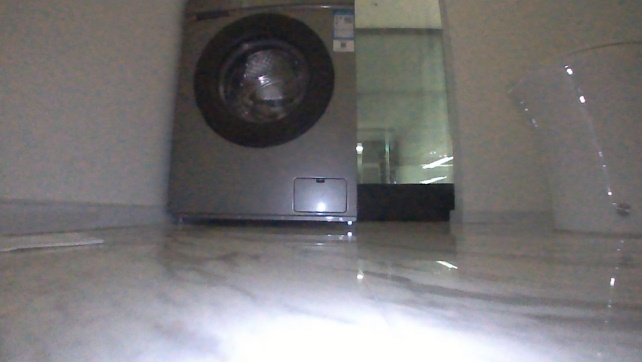toilet: (500, 34, 641, 237)
washing_machine: (162, 0, 360, 228)
